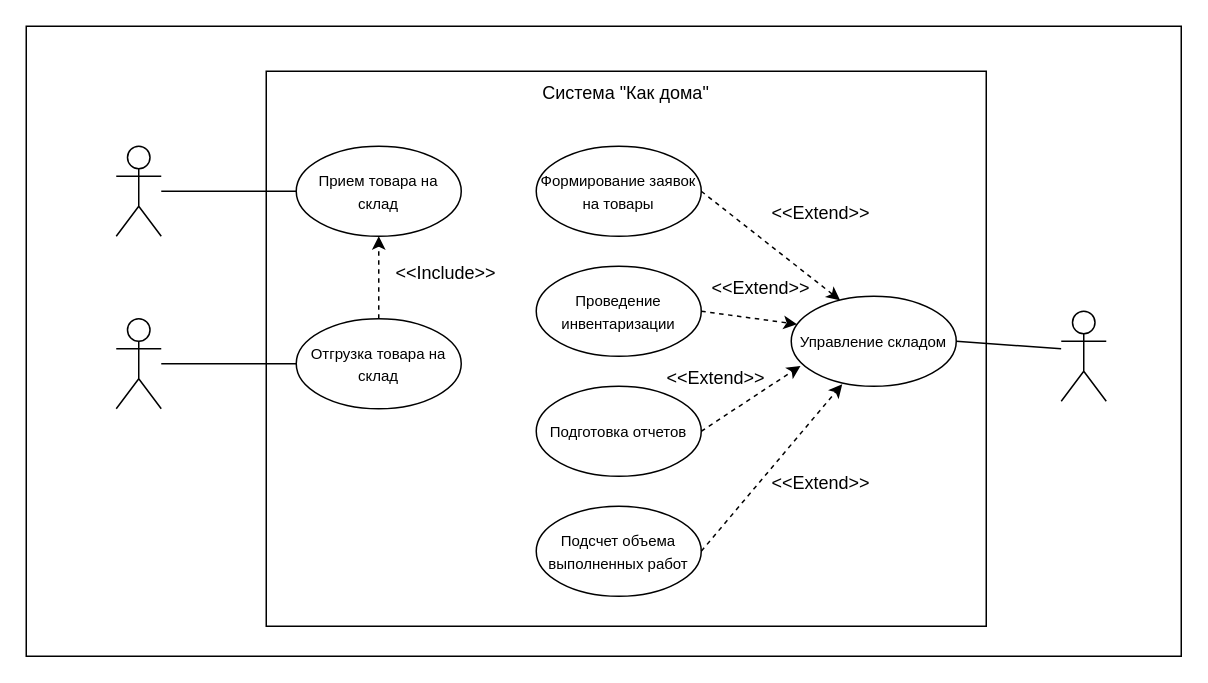
The diagram is 1208 pixels wide and 683 high, and some of its shapes have lost their labels. Here are the shapes that lost their labels. From the top down, the box of each, then its label:
(115, 145, 161, 236): Менеджер приема
(115, 317, 161, 409): Менеджер отгрузки
(1060, 310, 1106, 401): Старший менеджер
